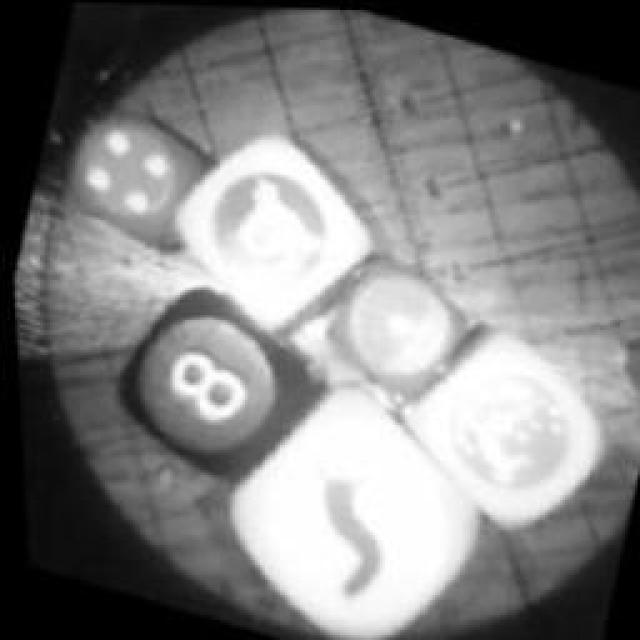dice_1: (306, 232, 492, 422)
dice_4: (41, 84, 229, 274)
